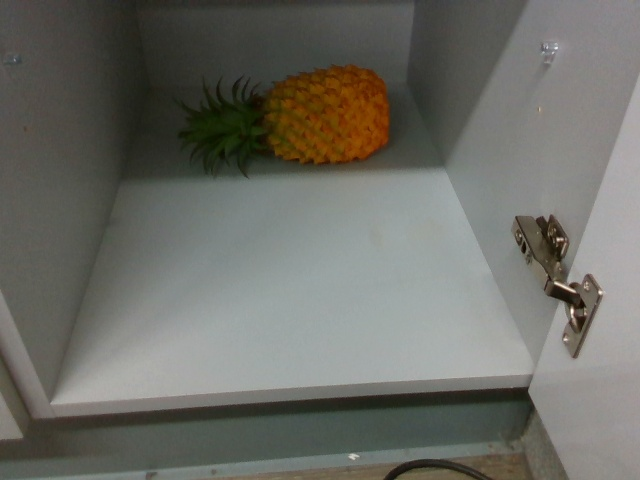pineapple: (191, 62, 396, 174)
